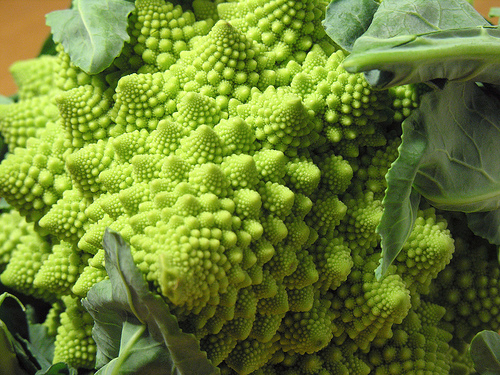broccoli: (2, 0, 499, 374)
